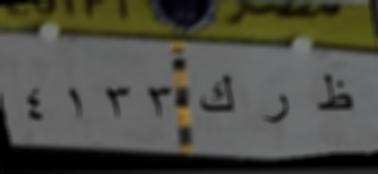1: (62, 81, 90, 126)
3: (101, 76, 138, 124), (144, 73, 176, 125)
4: (18, 80, 53, 128)
Thaa: (306, 66, 363, 125)
kaaf: (198, 68, 240, 123)
raa: (256, 85, 298, 130)
